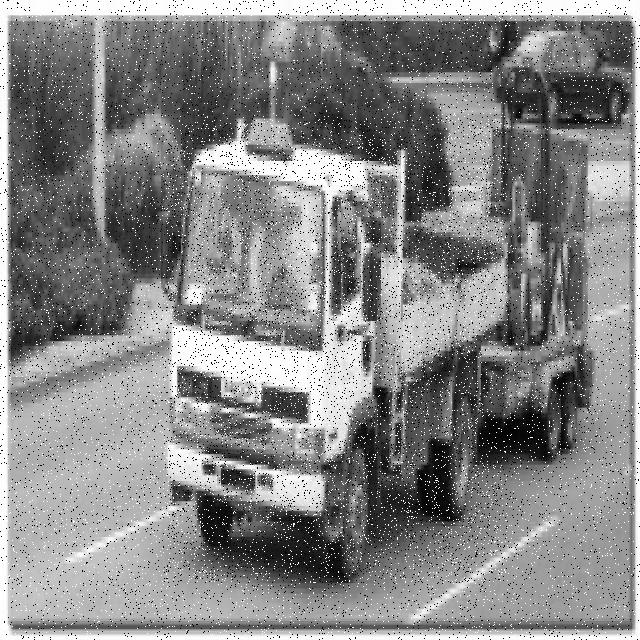Trailer: (481, 331, 593, 461)
Truck- 2-Axle: (166, 120, 508, 583)
